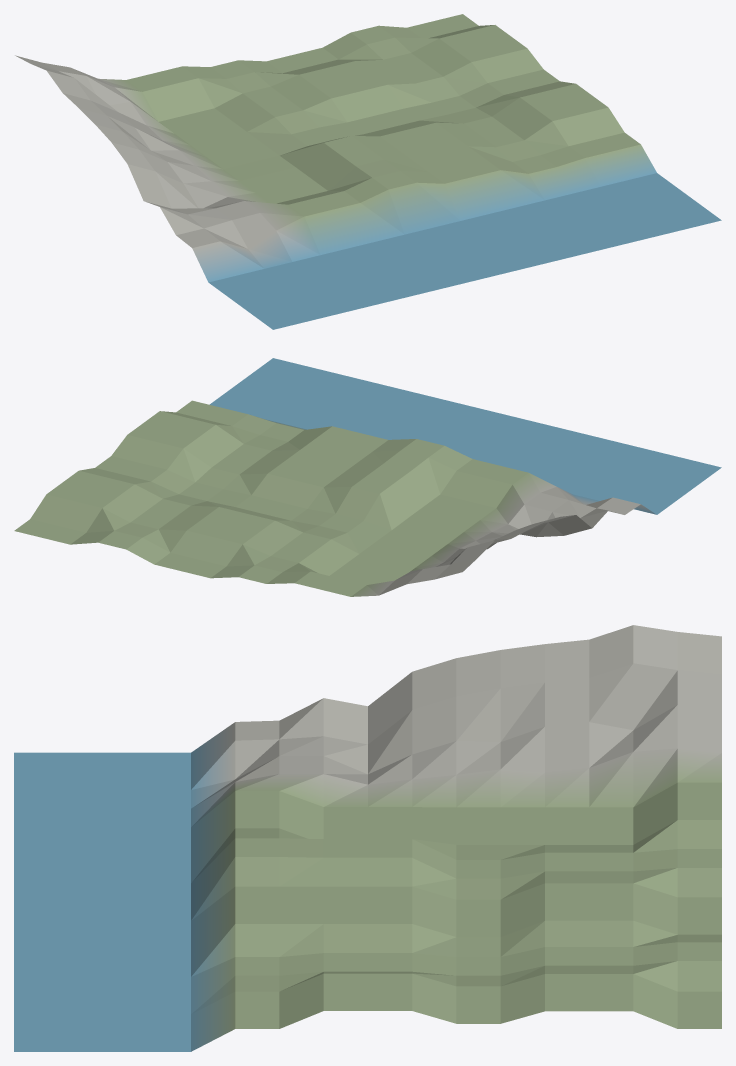
3 renders of one model, top to bottom at view 1: azimuth 30°, elevation 25°; view 2: azimuth 150°, elevation 25°; view 3: azimuth 270°, elevation 25°, orthographic. The views are drawn at different scales.
Size of the model in its own units: 32 by 6.37 by 32.
